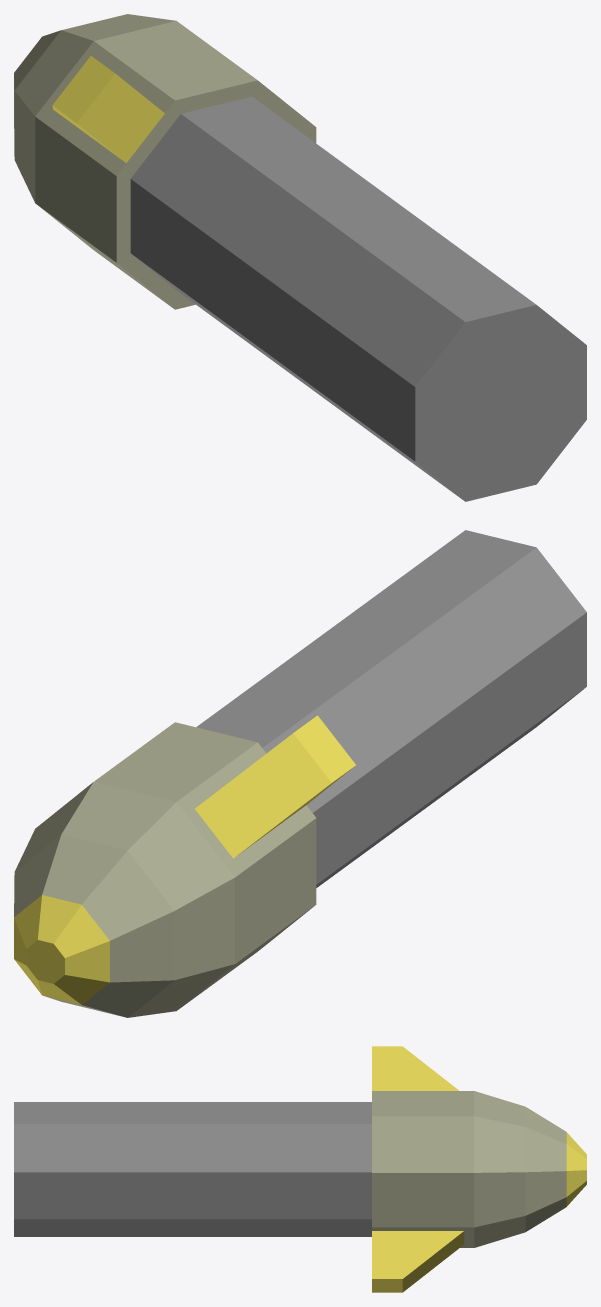
The model's file is ammo_rocketModern.glb.
The picture shows the model from 3 angles, top to bottom: view 1: azimuth 30°, elevation 25°; view 2: azimuth 150°, elevation 25°; view 3: azimuth 270°, elevation 25°; orthographic projection. The views are drawn at different scales.
Parts seen in each view (by area): view 1: ammo_rocketModern.001; view 2: ammo_rocketModern.001; view 3: ammo_rocketModern.001.
Boxes of the visible parts, bbox=[...] form: ammo_rocketModern.001: bbox=[14, 14, 586, 501]; ammo_rocketModern.001: bbox=[14, 530, 586, 1017]; ammo_rocketModern.001: bbox=[14, 1046, 586, 1292].
Bounding box in the file's own units: 0.2382 × 0.2382 × 0.672.
